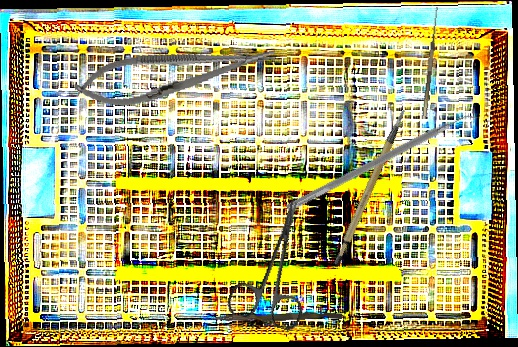Hook Surgical: (416, 5, 440, 120)
Iris Scissors: (224, 191, 333, 334)
Needle Holder: (71, 31, 280, 116)
Pusher: (210, 309, 343, 326)
Scalpel Handle: (312, 106, 432, 269)
Spatula Surgical: (285, 105, 481, 221)
